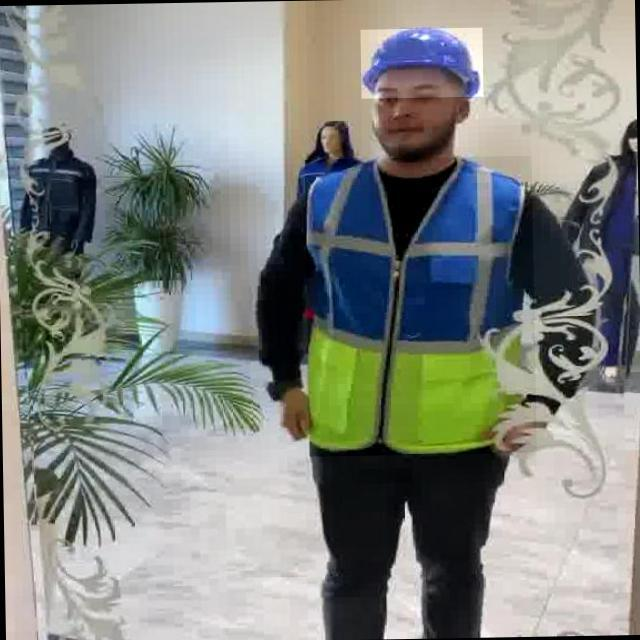Helmet: (360, 27, 483, 98)
Safety Vest: (305, 155, 538, 456)
